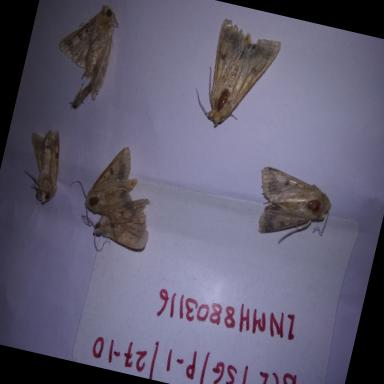abw: (182, 11, 288, 144), (58, 132, 158, 242), (40, 0, 127, 120), (243, 160, 342, 258), (74, 182, 162, 266), (10, 121, 73, 218)
